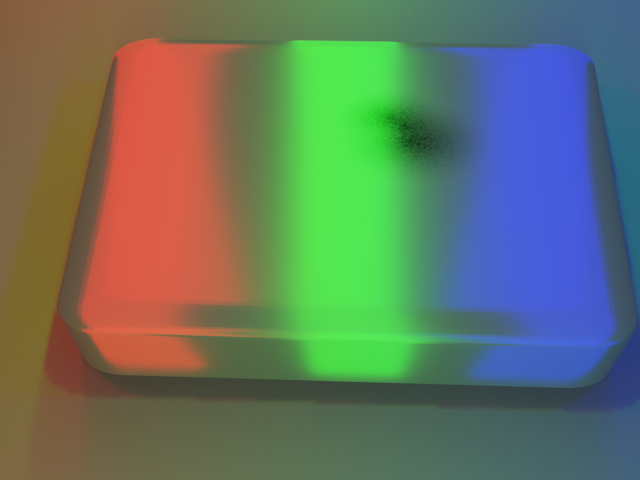stain: (297, 54, 521, 177)
